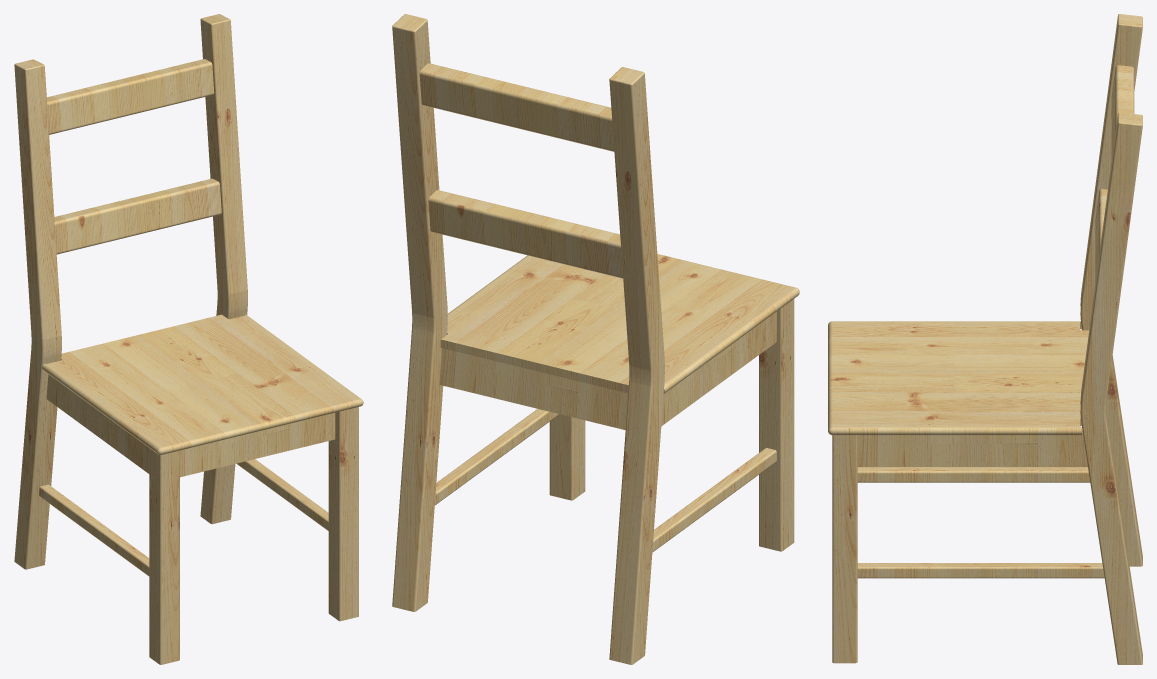
The model's file is chair_5.glb.
3 views of the same model, side by side, from view 1: azimuth 30°, elevation 25°; view 2: azimuth 150°, elevation 25°; view 3: azimuth 270°, elevation 25° (orthographic). The views are drawn at different scales.
Parts seen in each view (by area): view 1: IKE160072; view 2: IKE160072; view 3: IKE160072.
Boxes of the visible parts, left/top/right/bottom form: IKE160072: left=14, top=14, right=363, bottom=664; IKE160072: left=392, top=14, right=799, bottom=664; IKE160072: left=828, top=14, right=1142, bottom=664.
Size of the model in its own units: 41 by 95 by 50.
Materials: 1 (1 with a texture image).
